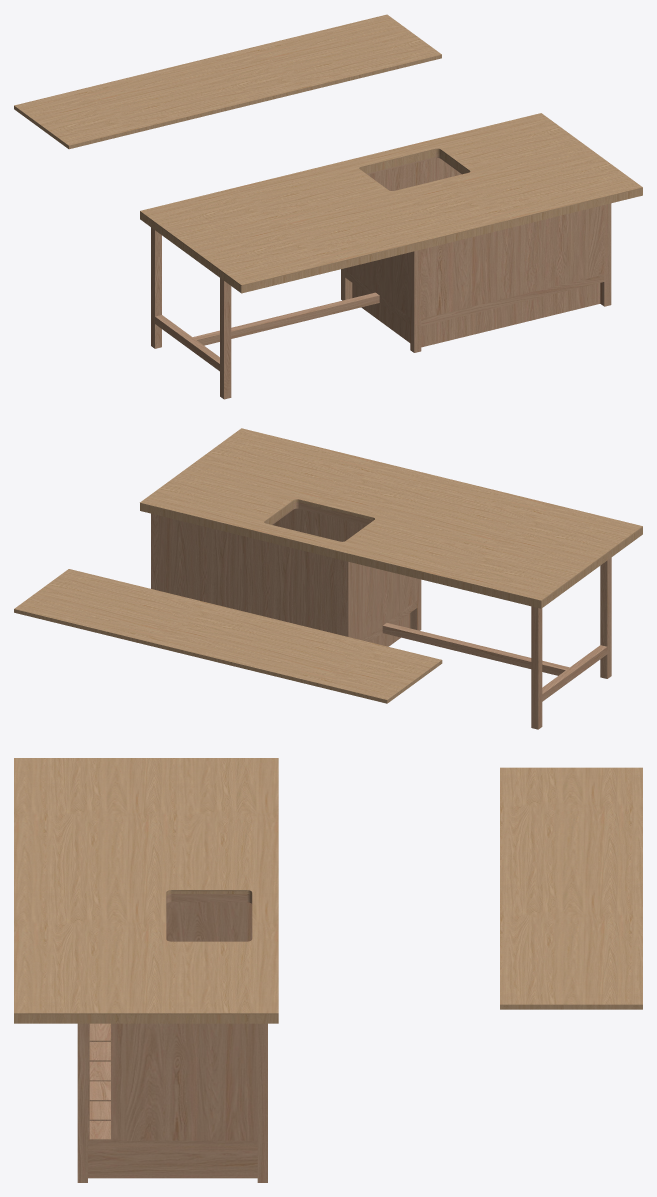
The model's file is CounterTopWood.glb.
3 views of the same model, one above another, from view 1: azimuth 30°, elevation 25°; view 2: azimuth 150°, elevation 25°; view 3: azimuth 270°, elevation 25° (orthographic). The views are drawn at different scales.
Visible parts, largest first — view 1: Wood Table; view 2: Wood Table; view 3: Wood Table.
Boxes of the visible parts, box(x1,y1,x2,y2) form: Wood Table: box(14, 14, 642, 399); Wood Table: box(14, 428, 642, 729); Wood Table: box(14, 758, 642, 1182).
Size of the model in its own units: 1.14 by 0.3631 by 1.19.
2 materials, 2 textured.
